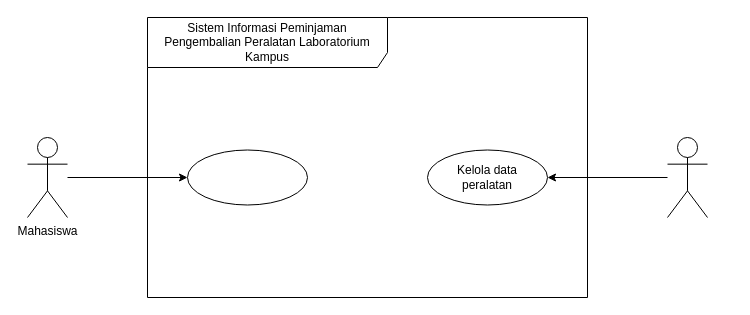
The diagram is 750 pixels wide and 315 high, and some of its shapes have lost their labels. Here are the shapes that lost their labels. From the top down, the centre of each, then its label:
point (247, 177): Lihat ketersedian peralatan
point (687, 177): Petugas Laboran
